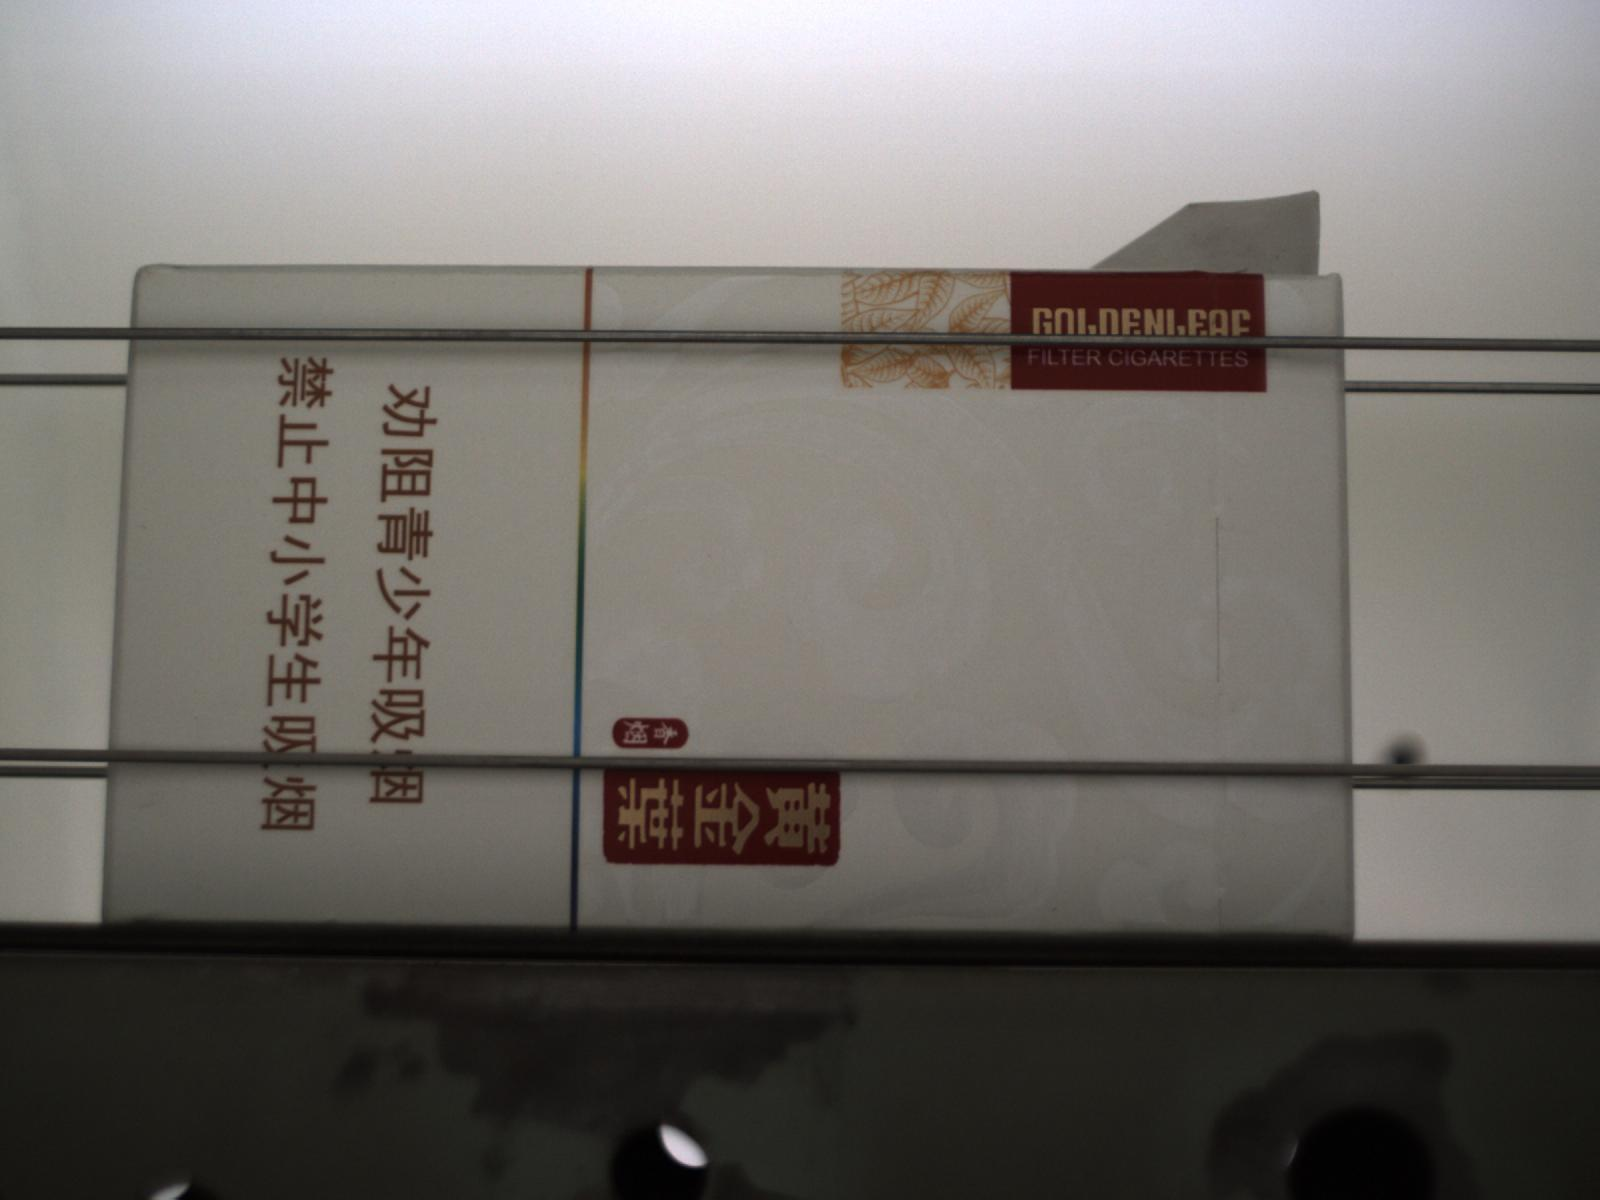headUpwarp_upper_01: (1097, 188, 1326, 273)
